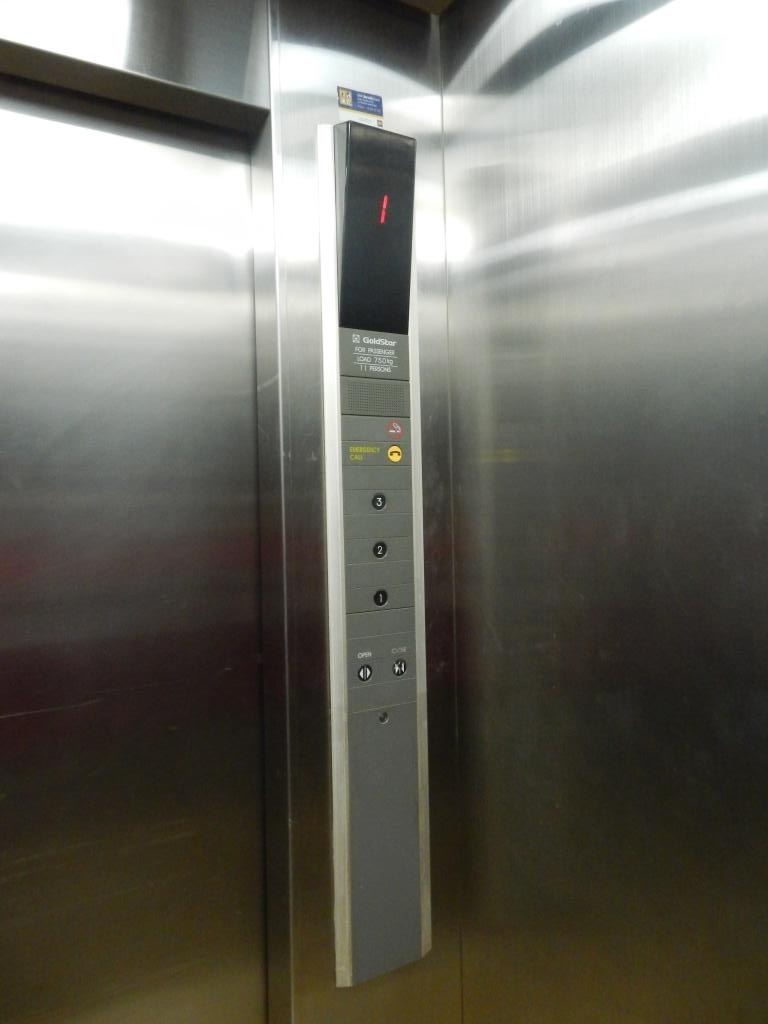1: (371, 587, 390, 608)
2: (370, 538, 389, 559)
3: (370, 491, 389, 512)
alarm: (385, 443, 403, 464)
close: (390, 657, 409, 678)
led: (331, 117, 428, 346)
open: (356, 662, 375, 683)
